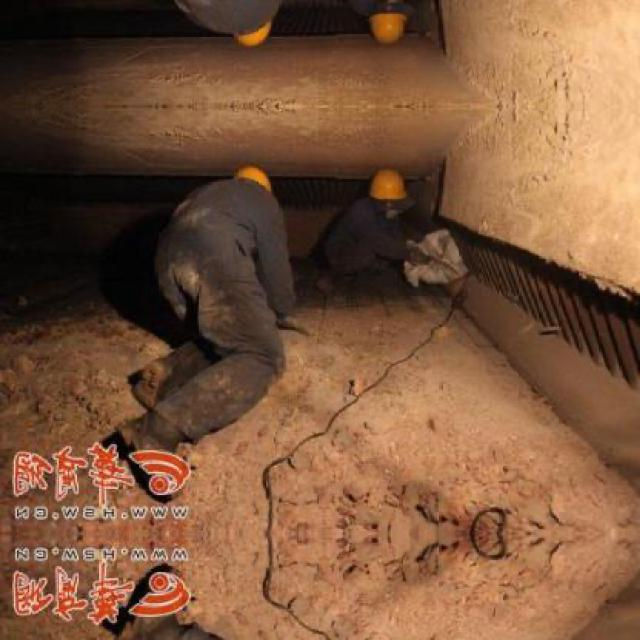con casco: (348, 151, 434, 247), (205, 134, 286, 211)
